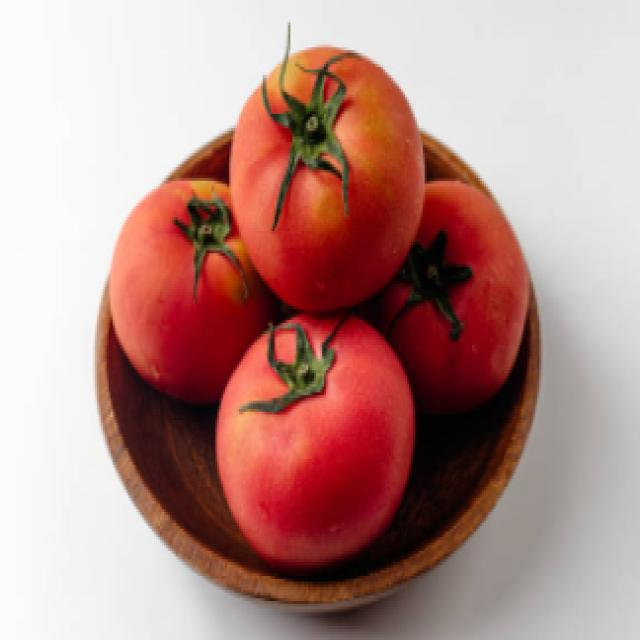Tomato: (215, 300, 426, 563), (229, 47, 427, 300)
